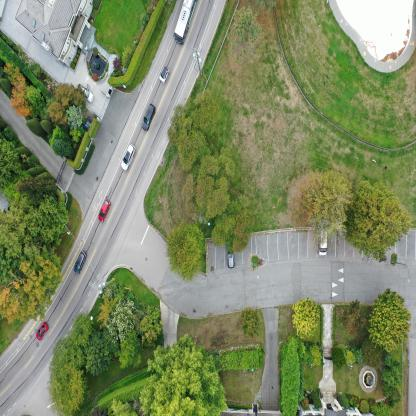Coniferous Tree: (348, 180, 413, 256), (168, 94, 222, 171), (300, 169, 351, 234), (166, 219, 206, 280), (178, 176, 232, 218), (48, 371, 92, 416), (30, 203, 70, 243), (229, 7, 261, 53), (50, 336, 86, 374), (228, 195, 252, 250), (200, 144, 232, 177), (1, 210, 30, 243), (68, 314, 93, 345), (0, 137, 21, 173), (0, 240, 22, 273), (213, 203, 229, 246), (252, 0, 275, 17)
Deciduous Tree: (150, 342, 216, 416), (25, 253, 63, 319), (371, 295, 409, 350), (292, 301, 317, 333), (340, 301, 364, 332), (238, 308, 262, 335)
